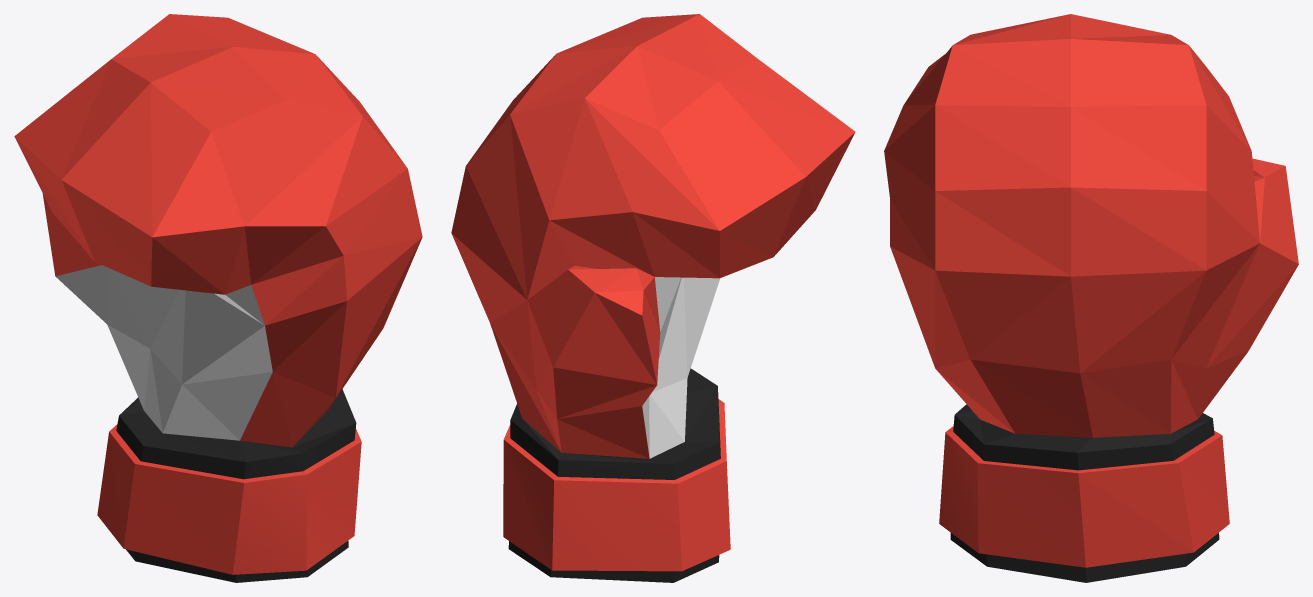
File: gloves_1_L.dae
The picture shows the model from 3 angles, left to right: view 1: azimuth 30°, elevation 25°; view 2: azimuth 150°, elevation 25°; view 3: azimuth 270°, elevation 25°; orthographic projection. The views are drawn at different scales.
Visible parts, largest first — view 1: Boxing Glove.001; view 2: Boxing Glove.001; view 3: Boxing Glove.001.
Part boxes in pixels (<box>): Boxing Glove.001: <box>14,14,422,582</box>; Boxing Glove.001: <box>451,14,855,582</box>; Boxing Glove.001: <box>884,14,1298,582</box>.
Bounding box in the file's own units: 0.7262 × 0.8394 × 1.12.
1 material, 1 textured.
